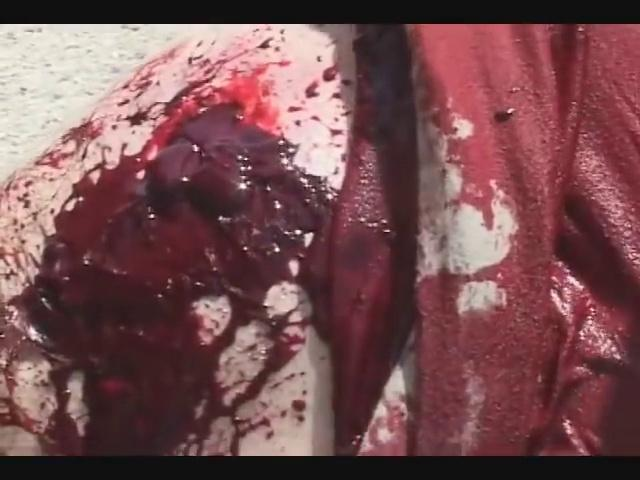Fire: (0, 26, 640, 456)
